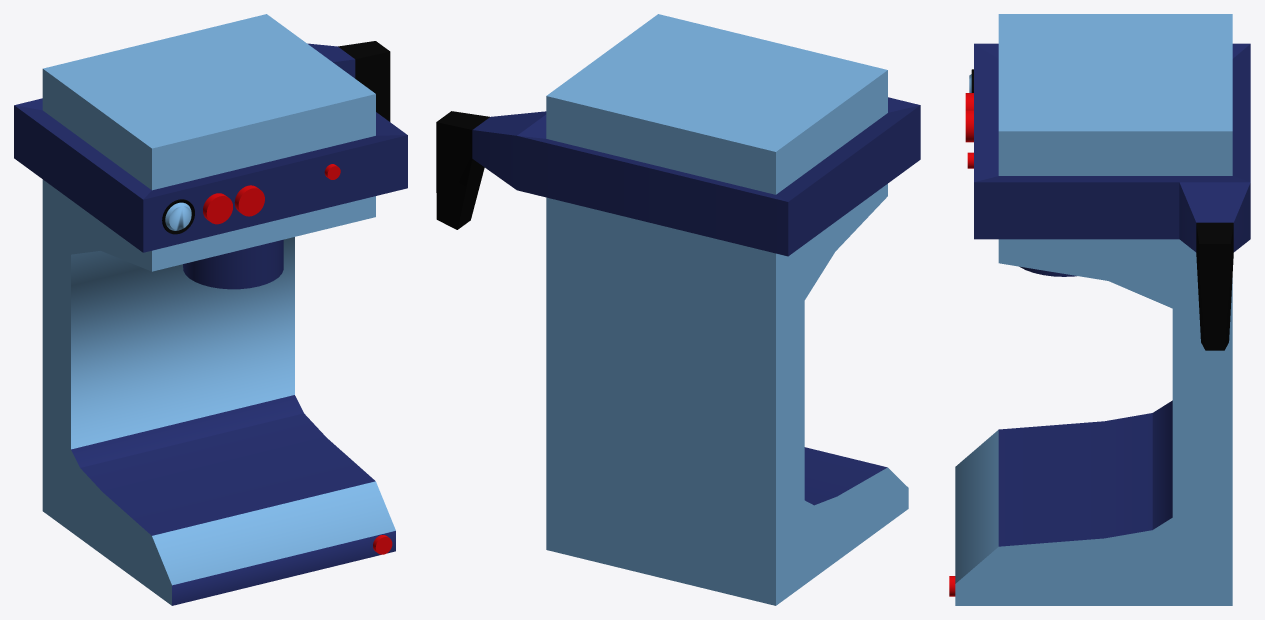
The model's file is GameJamCoffeeMachine.fbx.
The picture shows the model from 3 angles, left to right: view 1: azimuth 30°, elevation 25°; view 2: azimuth 150°, elevation 25°; view 3: azimuth 270°, elevation 25°; orthographic projection. The views are drawn at different scales.
Visible parts, largest first — view 1: Cube; view 2: Cube; view 3: Cube.
Part boxes in pixels (box(x1,y1,x2,y2)): Cube: box(14, 14, 407, 605); Cube: box(436, 14, 920, 605); Cube: box(949, 14, 1250, 605).
Size of the model in its own units: 317 by 378 by 217.
